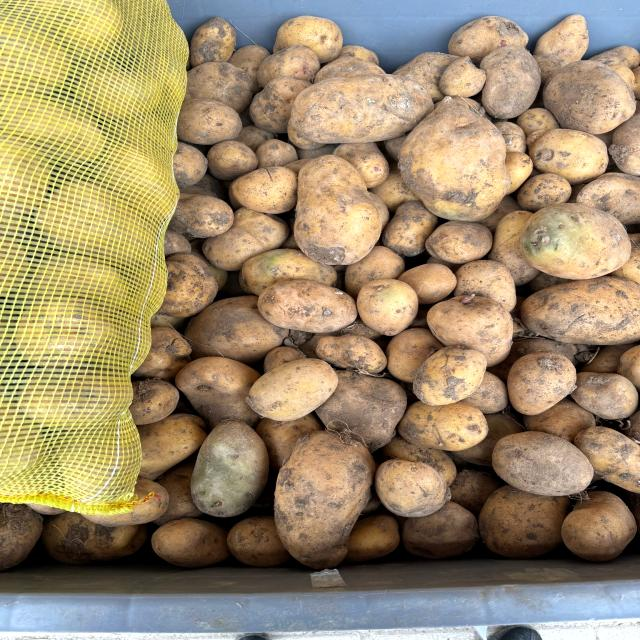potato: (266, 426, 378, 575), (279, 148, 399, 276), (405, 92, 514, 228), (180, 416, 280, 525), (515, 199, 636, 285), (482, 427, 610, 507), (234, 347, 352, 426), (258, 278, 362, 342), (399, 343, 493, 409)
